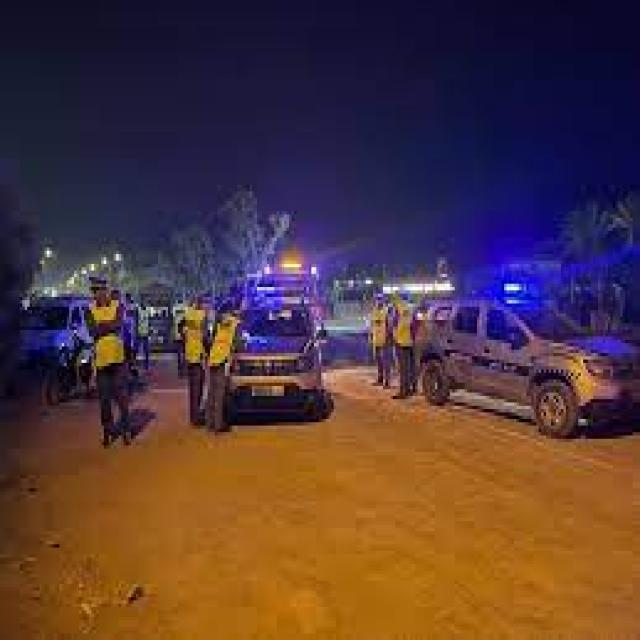gendarme car: (413, 272, 640, 451), (215, 260, 342, 438)
